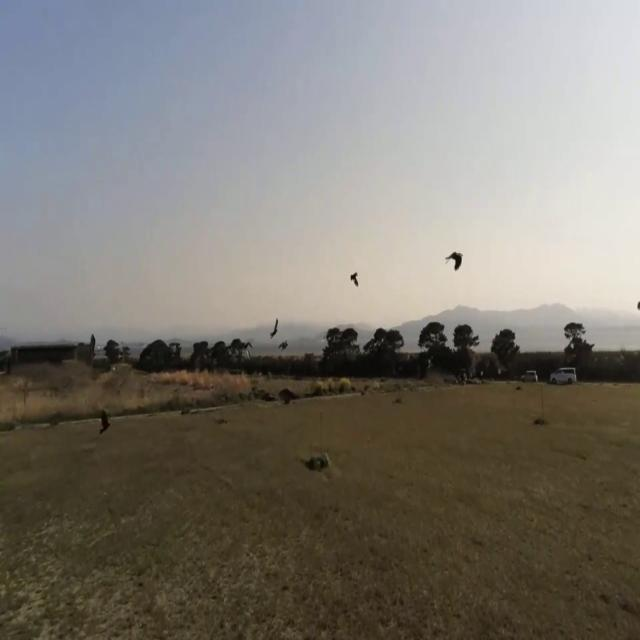bird: (446, 240, 464, 276), (100, 404, 110, 441), (270, 313, 279, 342), (350, 266, 359, 291), (636, 293, 640, 315)
